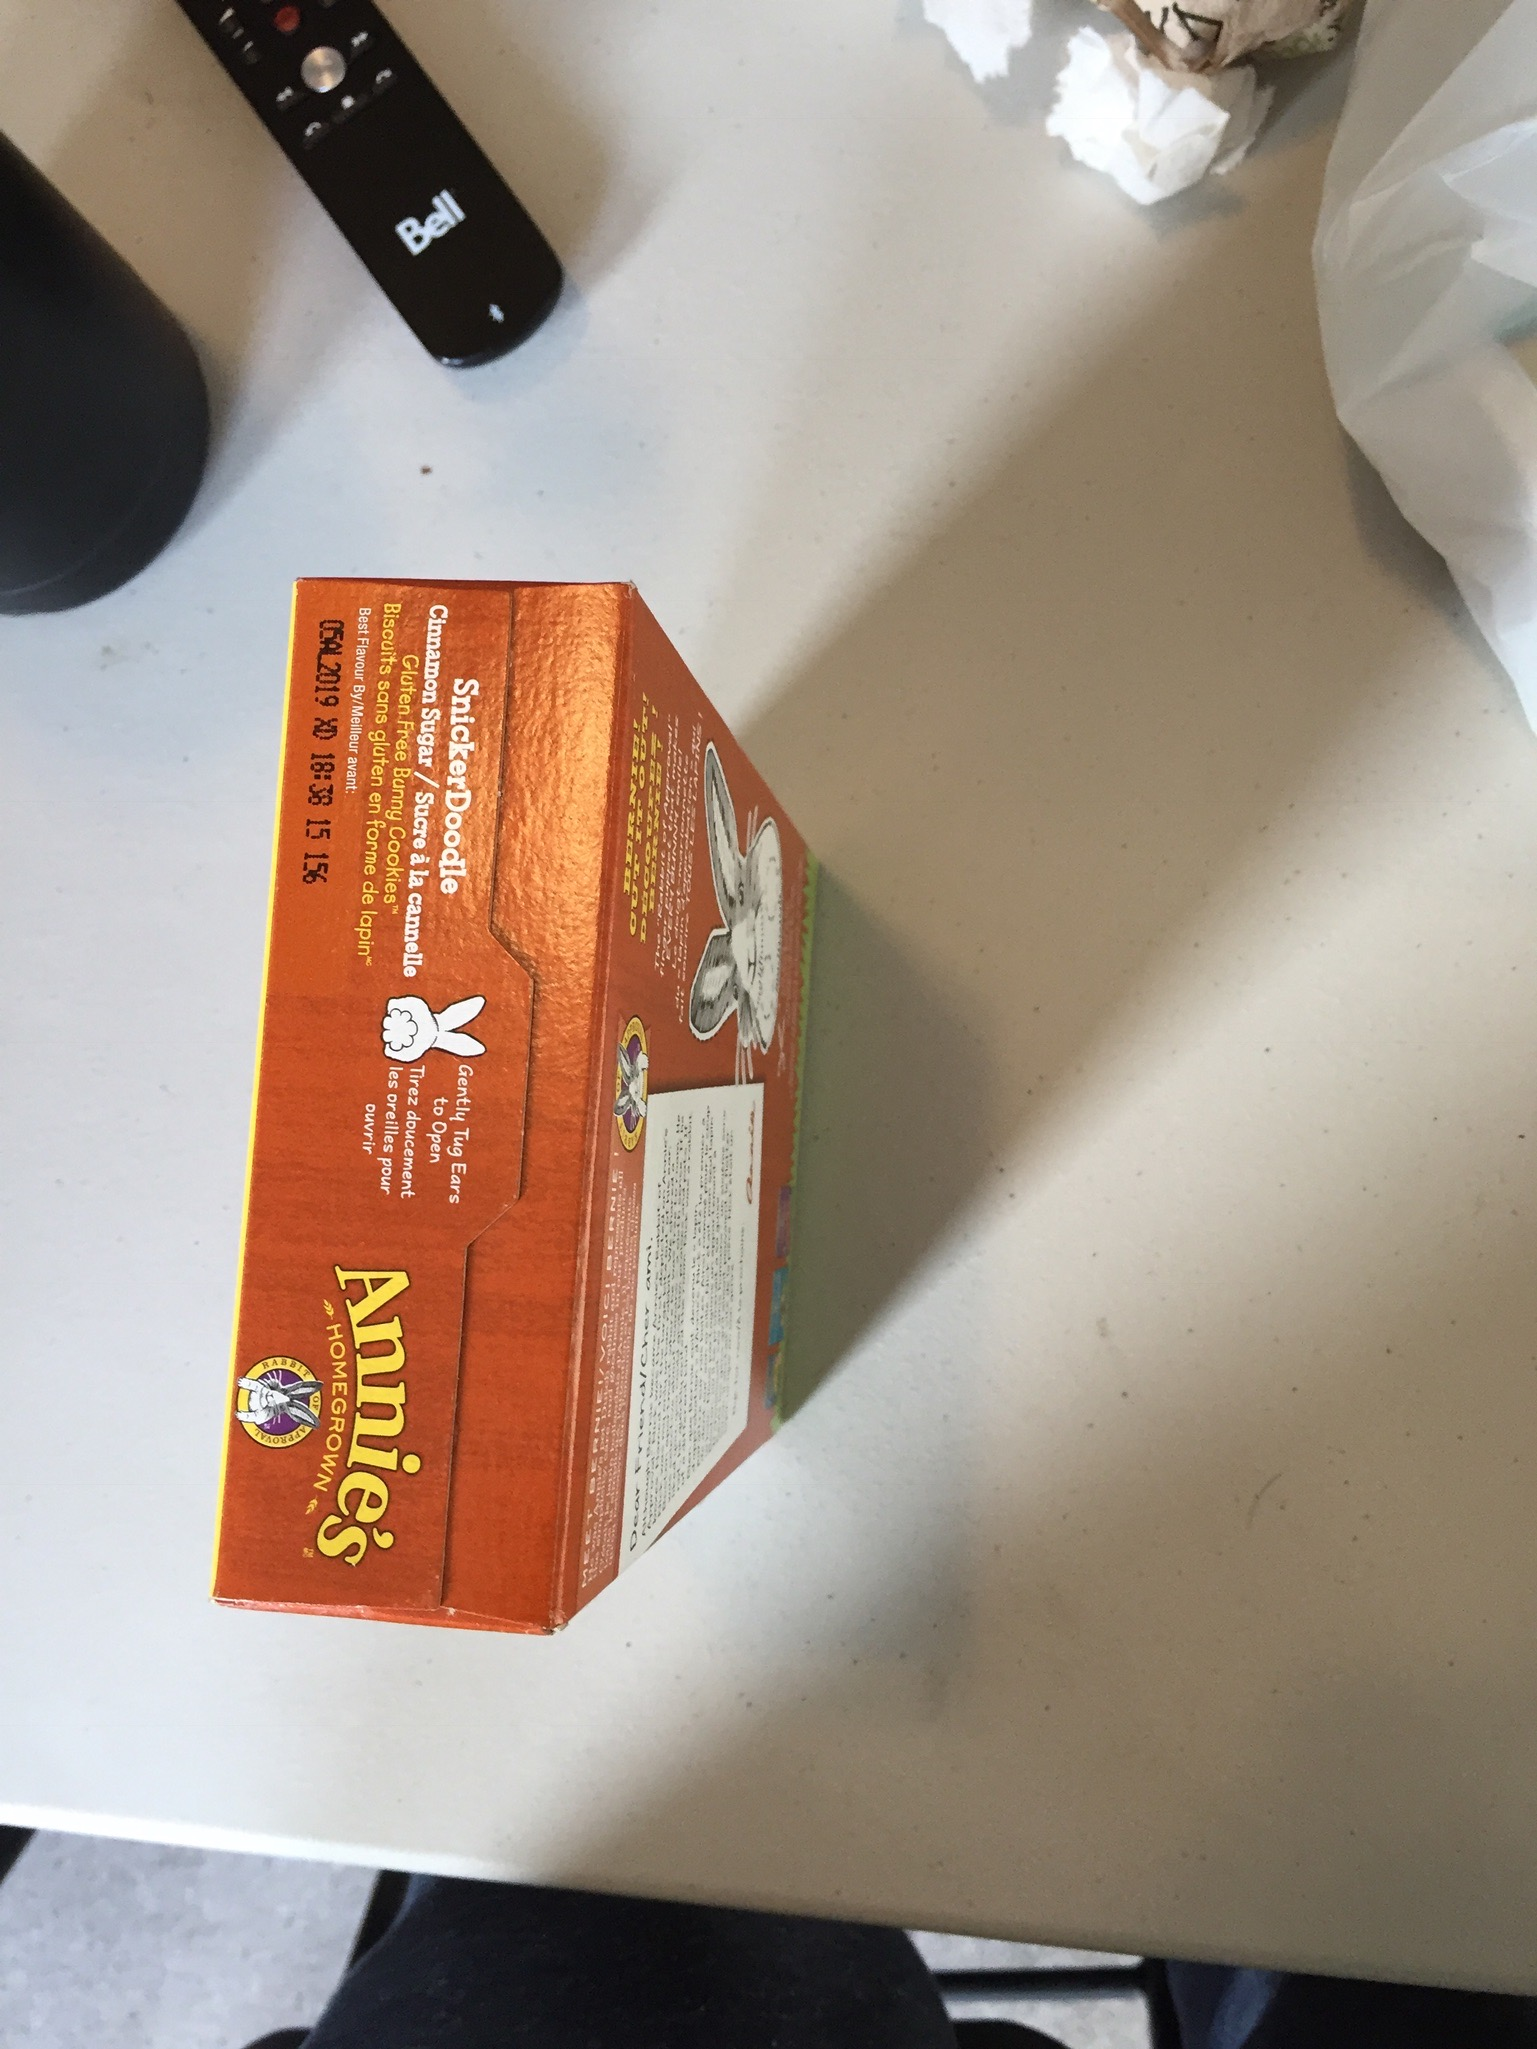annies_snickerdoodle_cinnamon_sugar: (304, 591, 614, 1566)
